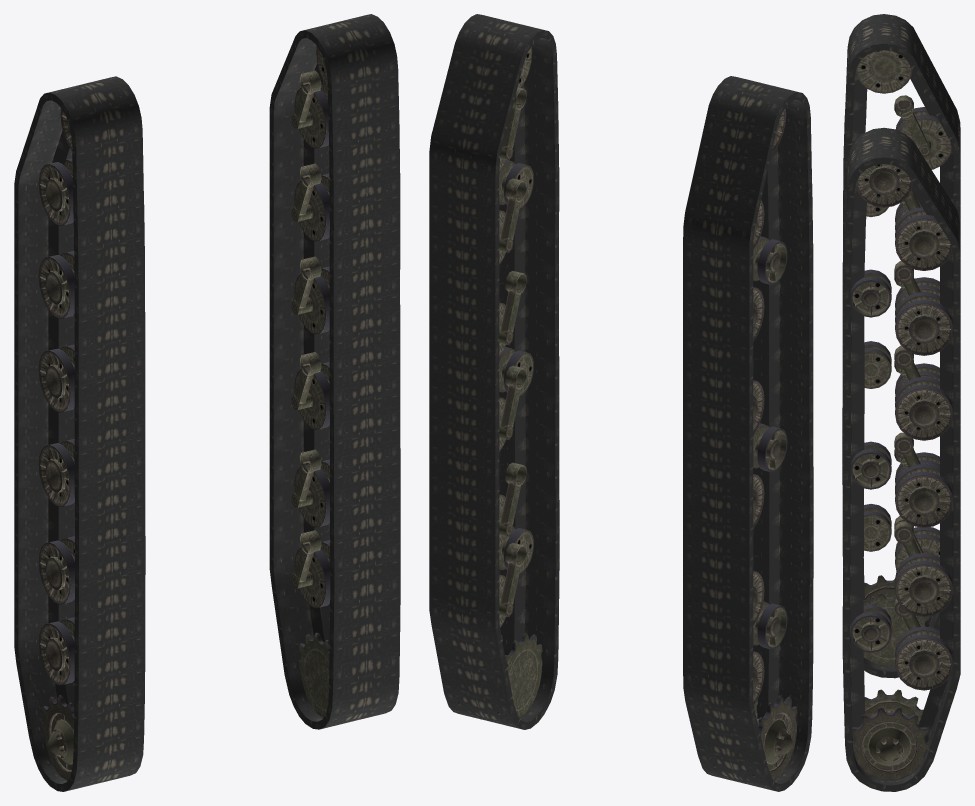
The model's file is Chassis.glb.
The picture shows the model from 3 angles, left to right: view 1: azimuth 30°, elevation 25°; view 2: azimuth 150°, elevation 25°; view 3: azimuth 270°, elevation 25°; orthographic projection. The views are drawn at different scales.
Visible parts, largest first — view 1: set_0_group_0, set_1_group_0, set_3_group_0, set_2_group_0; view 2: set_0_group_0, set_1_group_0, set_3_group_0, set_2_group_0; view 3: set_3_group_0, set_1_group_0, set_2_group_0, set_0_group_0.
Part boxes in pixels (box(x1,y1,x2,y2)): set_0_group_0: box(14, 76, 145, 791); set_1_group_0: box(269, 14, 400, 729); set_3_group_0: box(291, 46, 384, 717); set_2_group_0: box(38, 108, 128, 780); set_0_group_0: box(683, 76, 813, 791); set_1_group_0: box(429, 14, 559, 729); set_3_group_0: box(458, 46, 542, 717); set_2_group_0: box(713, 108, 797, 780); set_3_group_0: box(850, 164, 953, 780); set_1_group_0: box(842, 127, 960, 791); set_2_group_0: box(856, 50, 952, 666); set_0_group_0: box(842, 14, 960, 678).
Bounding box in the file's own units: 3.21 × 6.5 × 1.1.
Materials: 4 (4 with a texture image).
